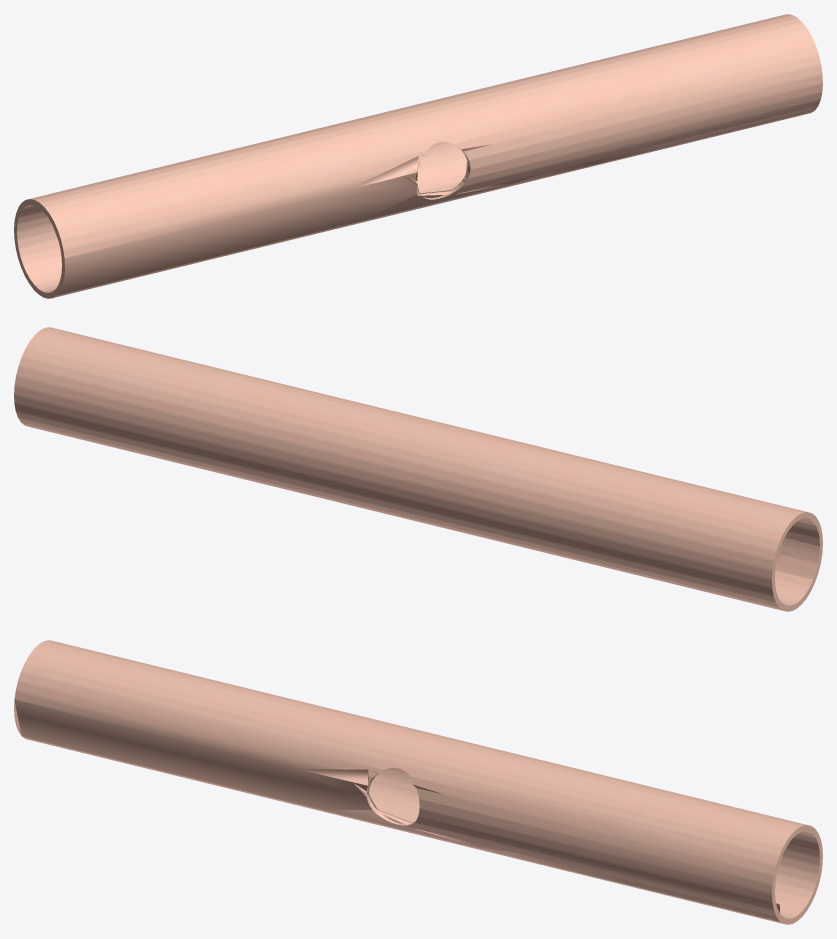
The picture shows the model from 3 angles, top to bottom: view 1: azimuth 30°, elevation 25°; view 2: azimuth 150°, elevation 25°; view 3: azimuth 330°, elevation 25°; orthographic projection.
Visible parts, largest first — view 1: Cylinder.004; view 2: Cylinder.004; view 3: Cylinder.004.
Part boxes in pixels (x1=…): Cylinder.004: x1=14, y1=14, x2=822, y2=298; Cylinder.004: x1=14, y1=327, x2=822, y2=611; Cylinder.004: x1=14, y1=640, x2=822, y2=924.
Size of the model in its own units: 1714 by 200 by 200.
1 material, 1 textured.
